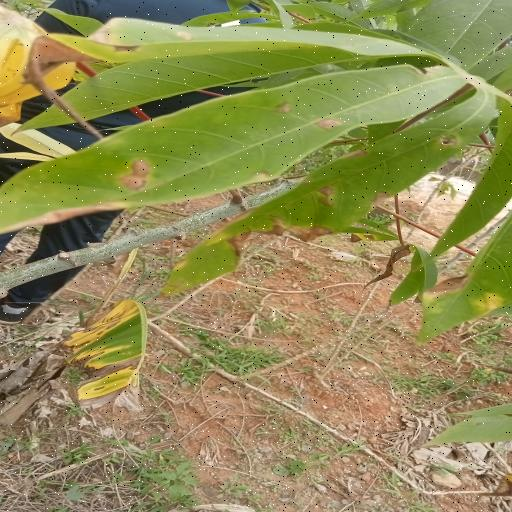Cassava_Brown_Leaf_Spot: (5, 16, 512, 333)
